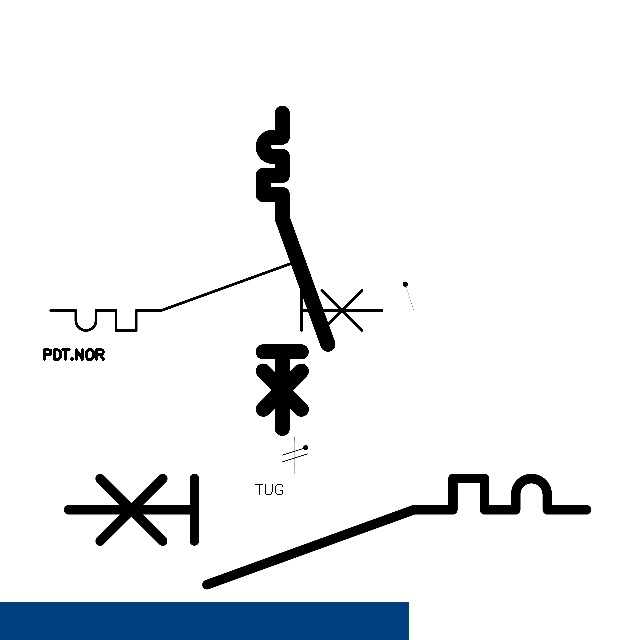interruptor_termomagnetico: (55, 465, 600, 598), (42, 254, 390, 339), (255, 105, 336, 436)
